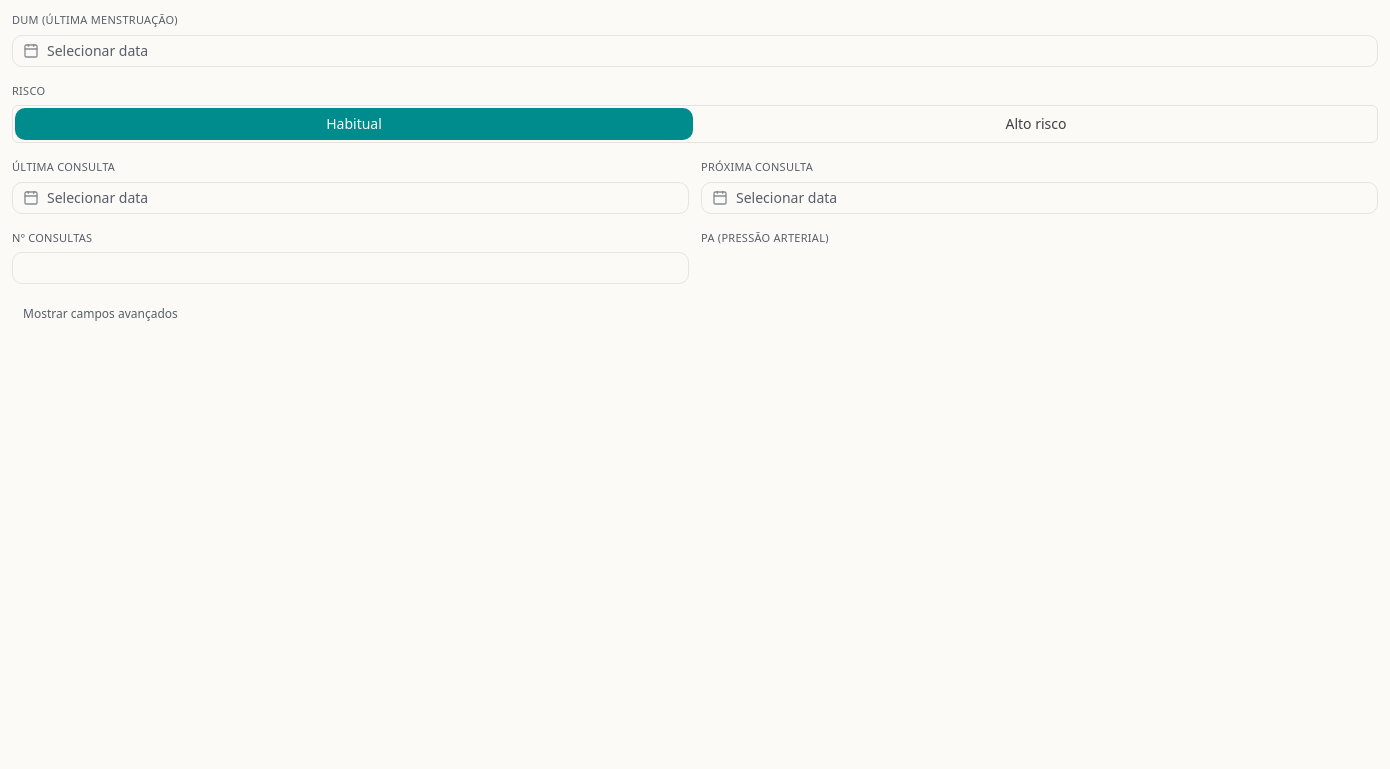
StepDadosGestante — full-parity round-trip › shows the puerpério trio when the patient is puérpera
Click the button "Mostrar campos avançados" at (100, 314), box x1=12 y1=300 x2=189 y2=328
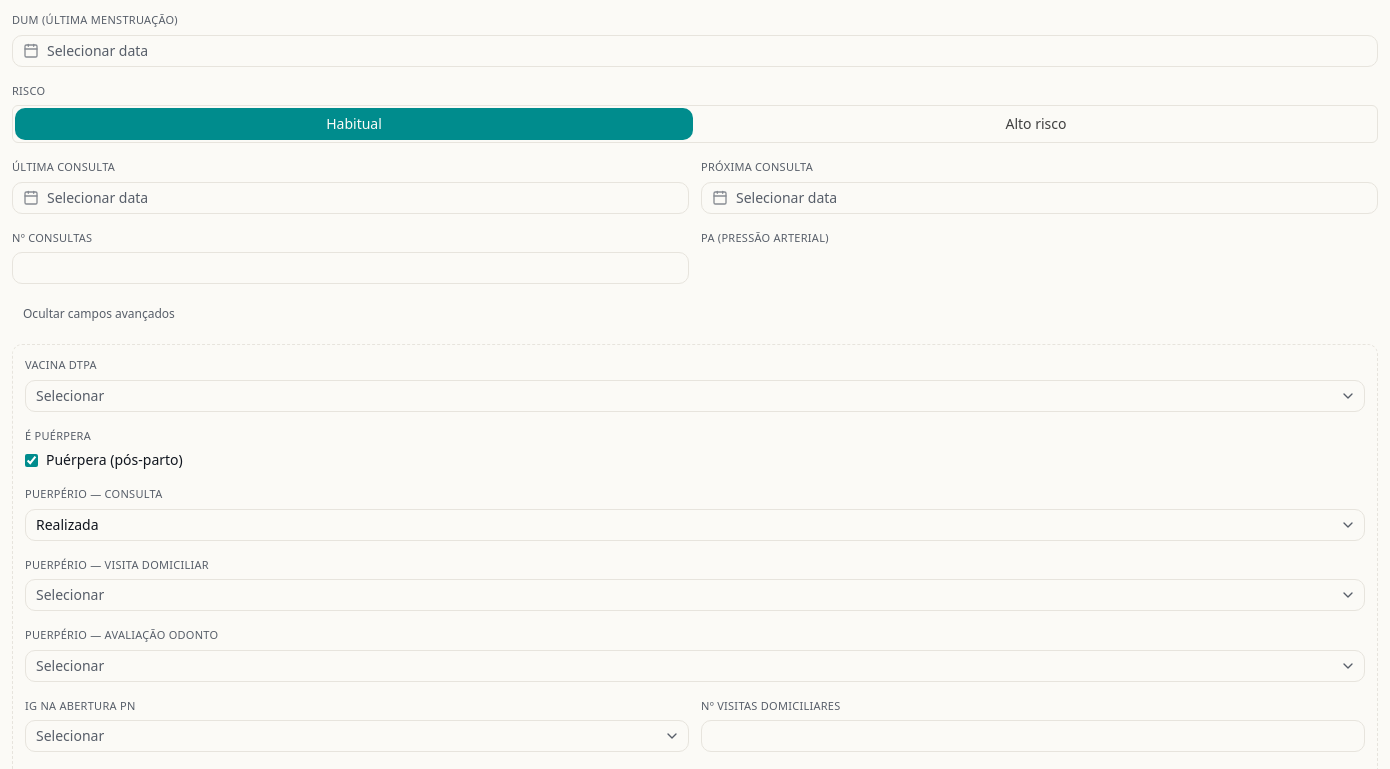
Expected: the text "Puerpério — consulta" is shown, x1=25 y1=486 x2=162 y2=501
